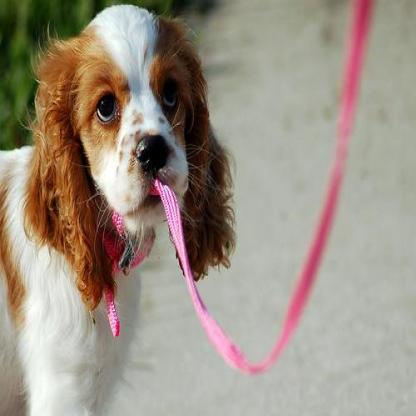cocker_spaniel: (0, 1, 242, 414)
